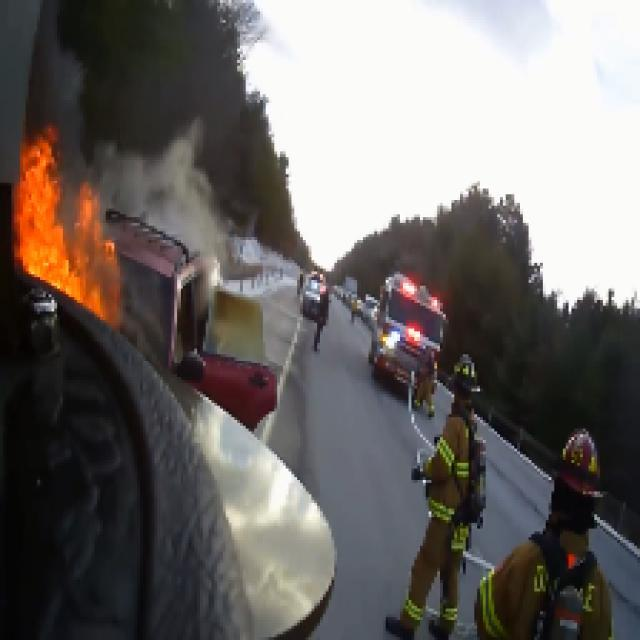Fire: (2, 122, 158, 348)
Smoke: (43, 8, 260, 245)
